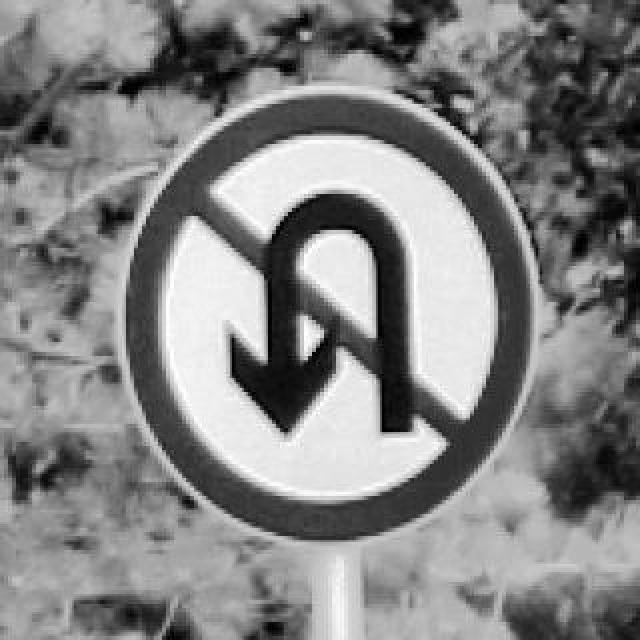no u turn: (114, 82, 544, 546)
